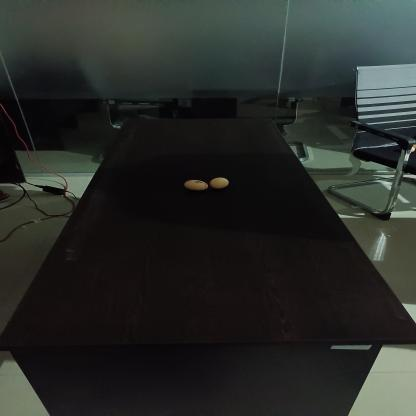egg: (182, 178, 210, 192), (209, 175, 230, 190)
